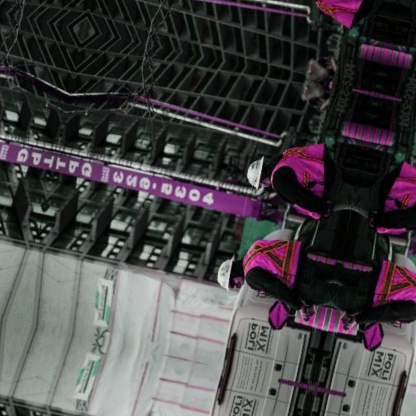vest: (263, 125, 339, 228), (238, 223, 308, 302)
white: (211, 248, 242, 298), (240, 151, 270, 198)
